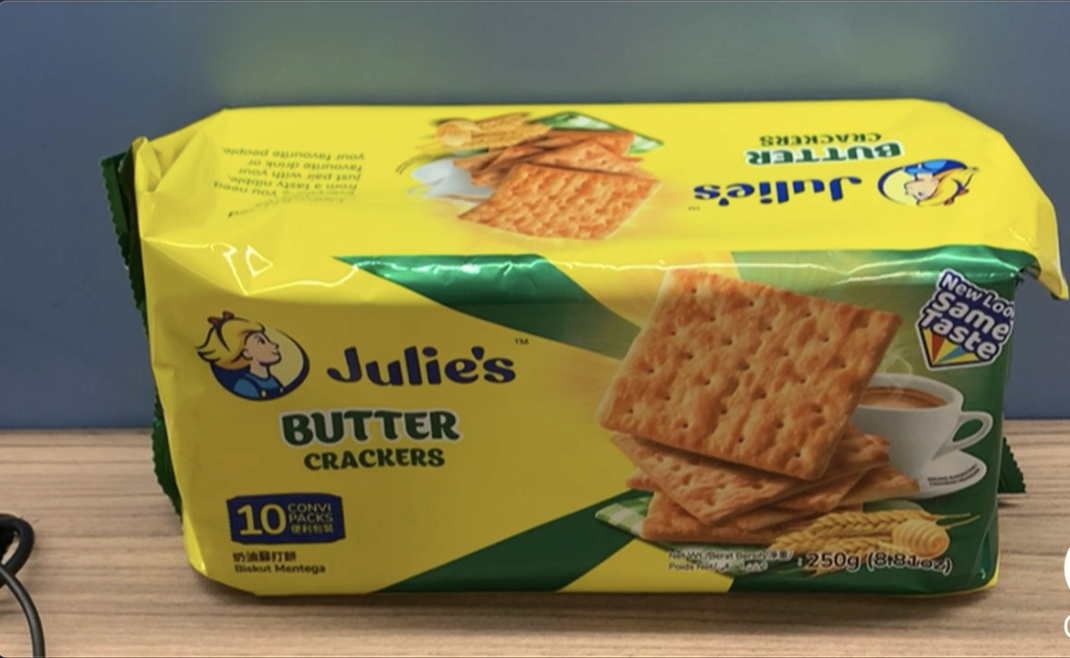crackers_200g-299g: (206, 262, 1009, 584)
